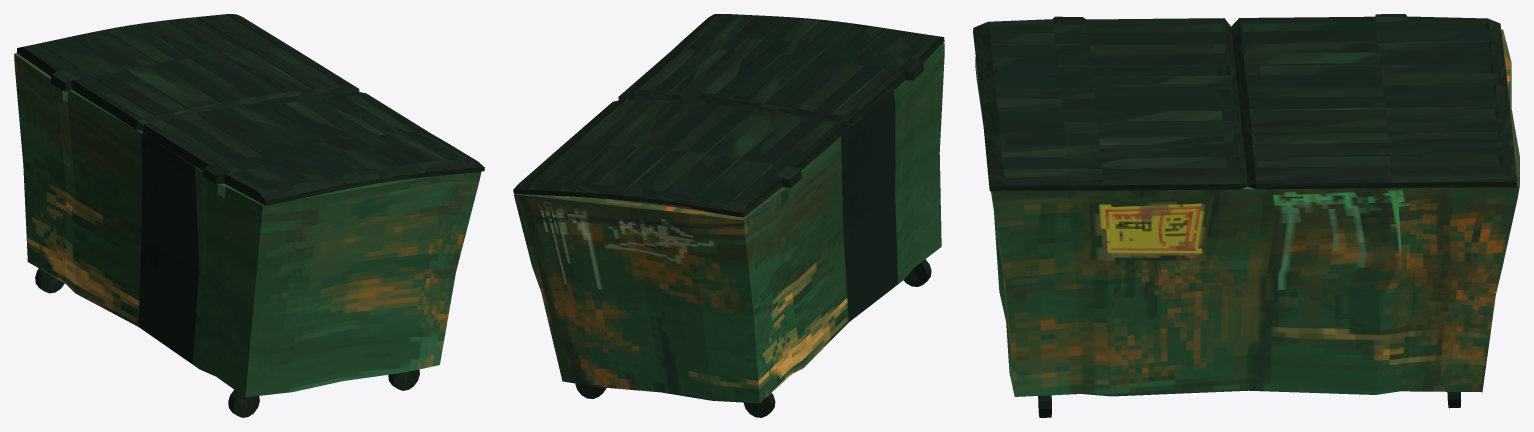
File: SM_dumpster.fbx
3 renders of one model, left to right at view 1: azimuth 30°, elevation 25°; view 2: azimuth 150°, elevation 25°; view 3: azimuth 270°, elevation 25°, orthographic. The views are drawn at different scales.
Parts seen in each view (by area): view 1: SM_dumpsterbody, SM_sumpsterlid; view 2: SM_dumpsterbody, SM_sumpsterlid; view 3: SM_dumpsterbody, SM_sumpsterlid.
Part boxes in pixels (x1,y1,x2,y2): SM_dumpsterbody: (14, 53, 481, 417); SM_sumpsterlid: (16, 14, 484, 205); SM_dumpsterbody: (514, 43, 944, 417); SM_sumpsterlid: (513, 14, 944, 217); SM_dumpsterbody: (975, 29, 1519, 417); SM_sumpsterlid: (973, 14, 1516, 191).
Bounding box in the file's own units: 107 × 102 × 170.
